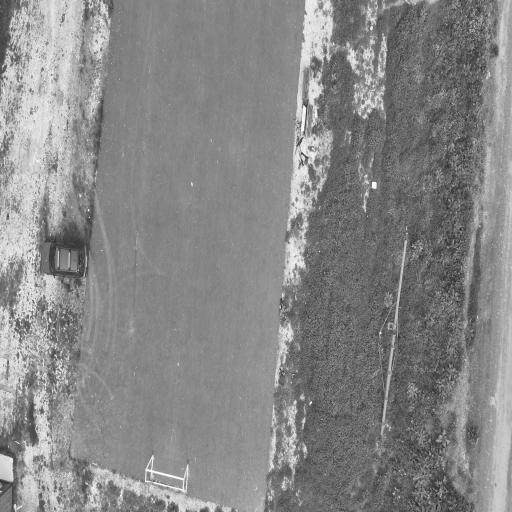car: (40, 241, 86, 278)
